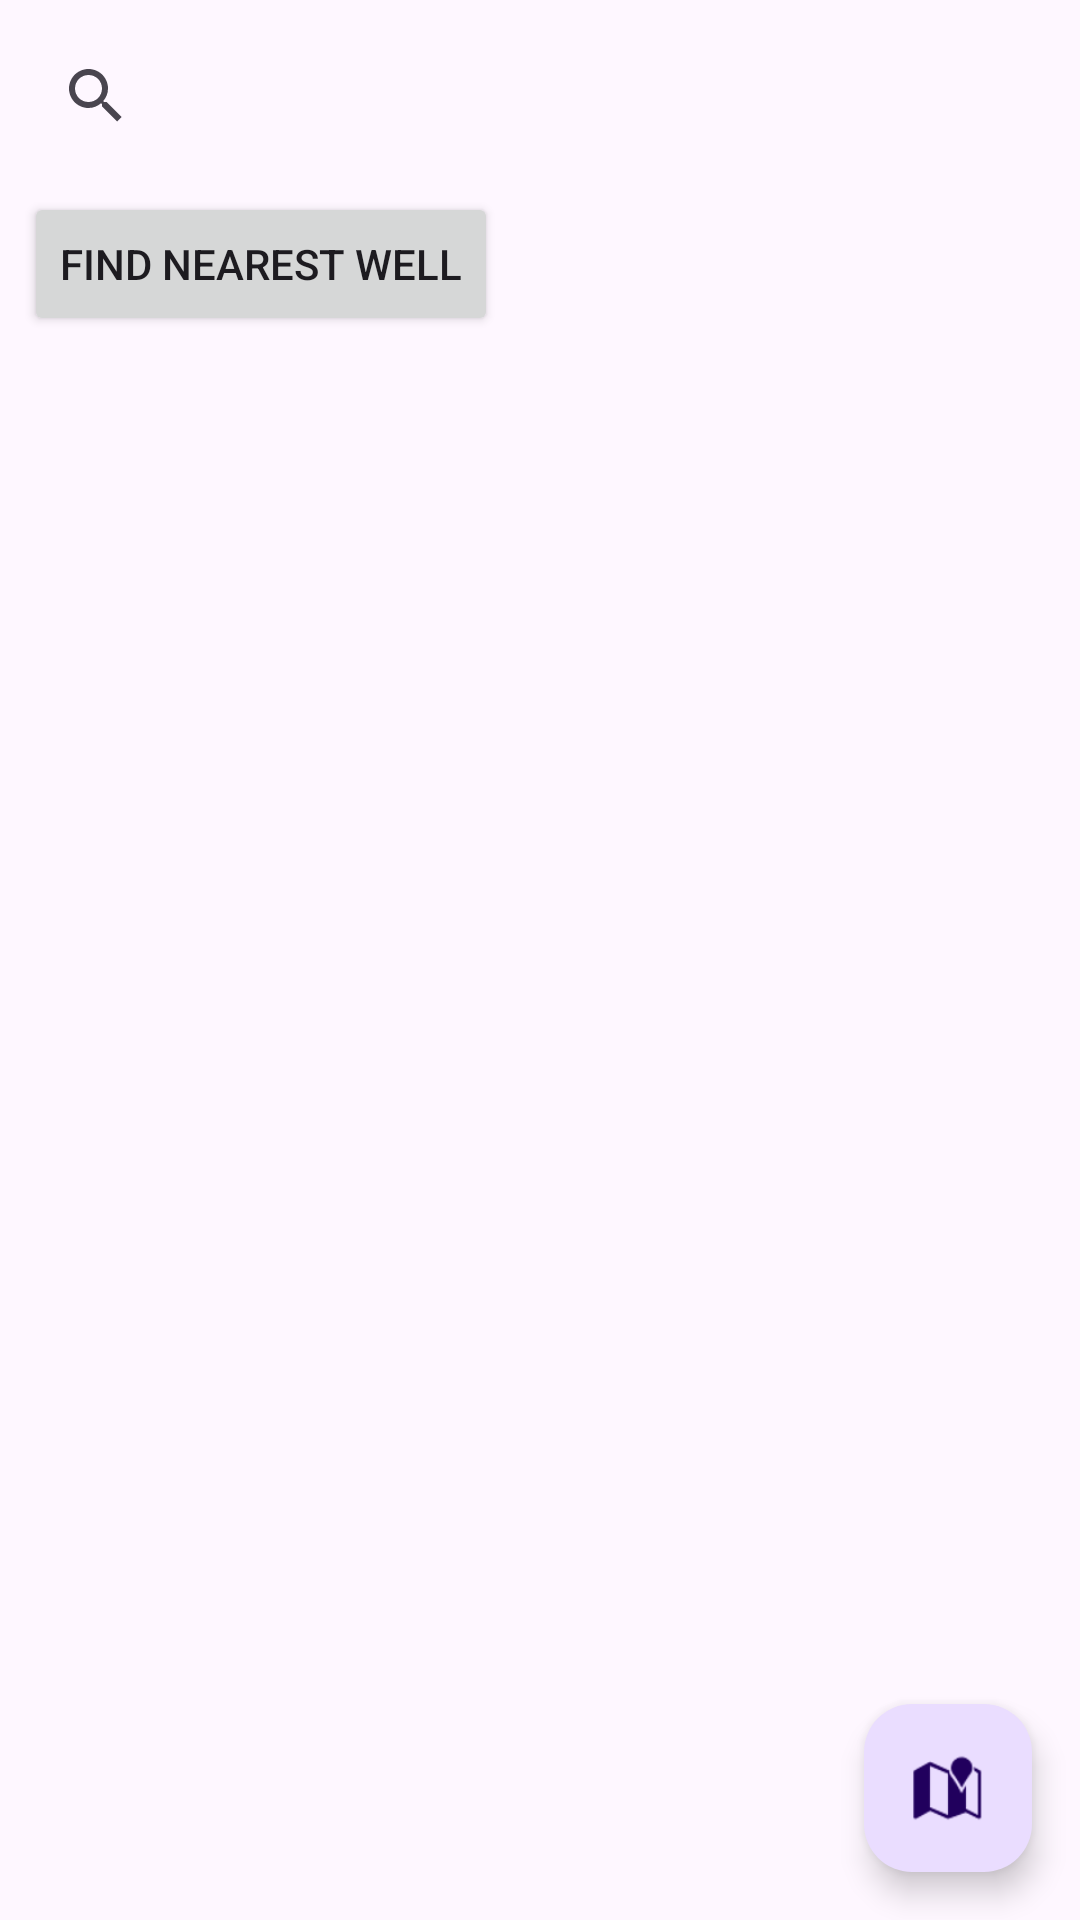

Screen size 1080*1920. Icon name, then its center in pixels as [x,y]:
Open map: [948,1788]
